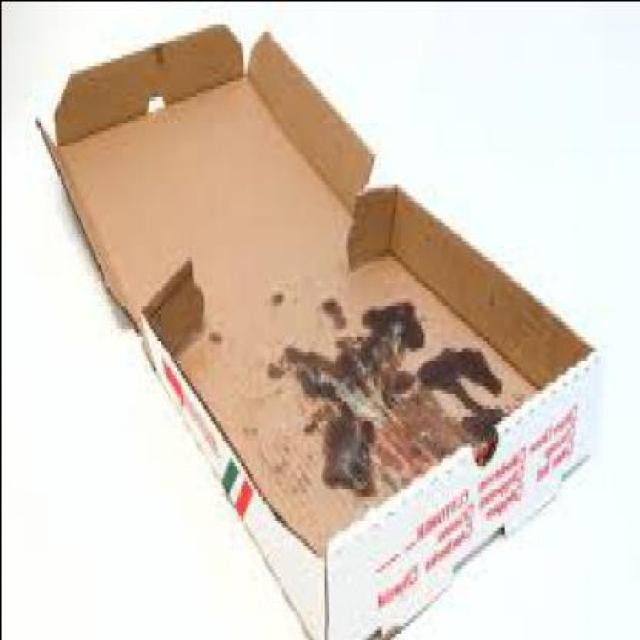CARDBOARD: (37, 15, 597, 636)
